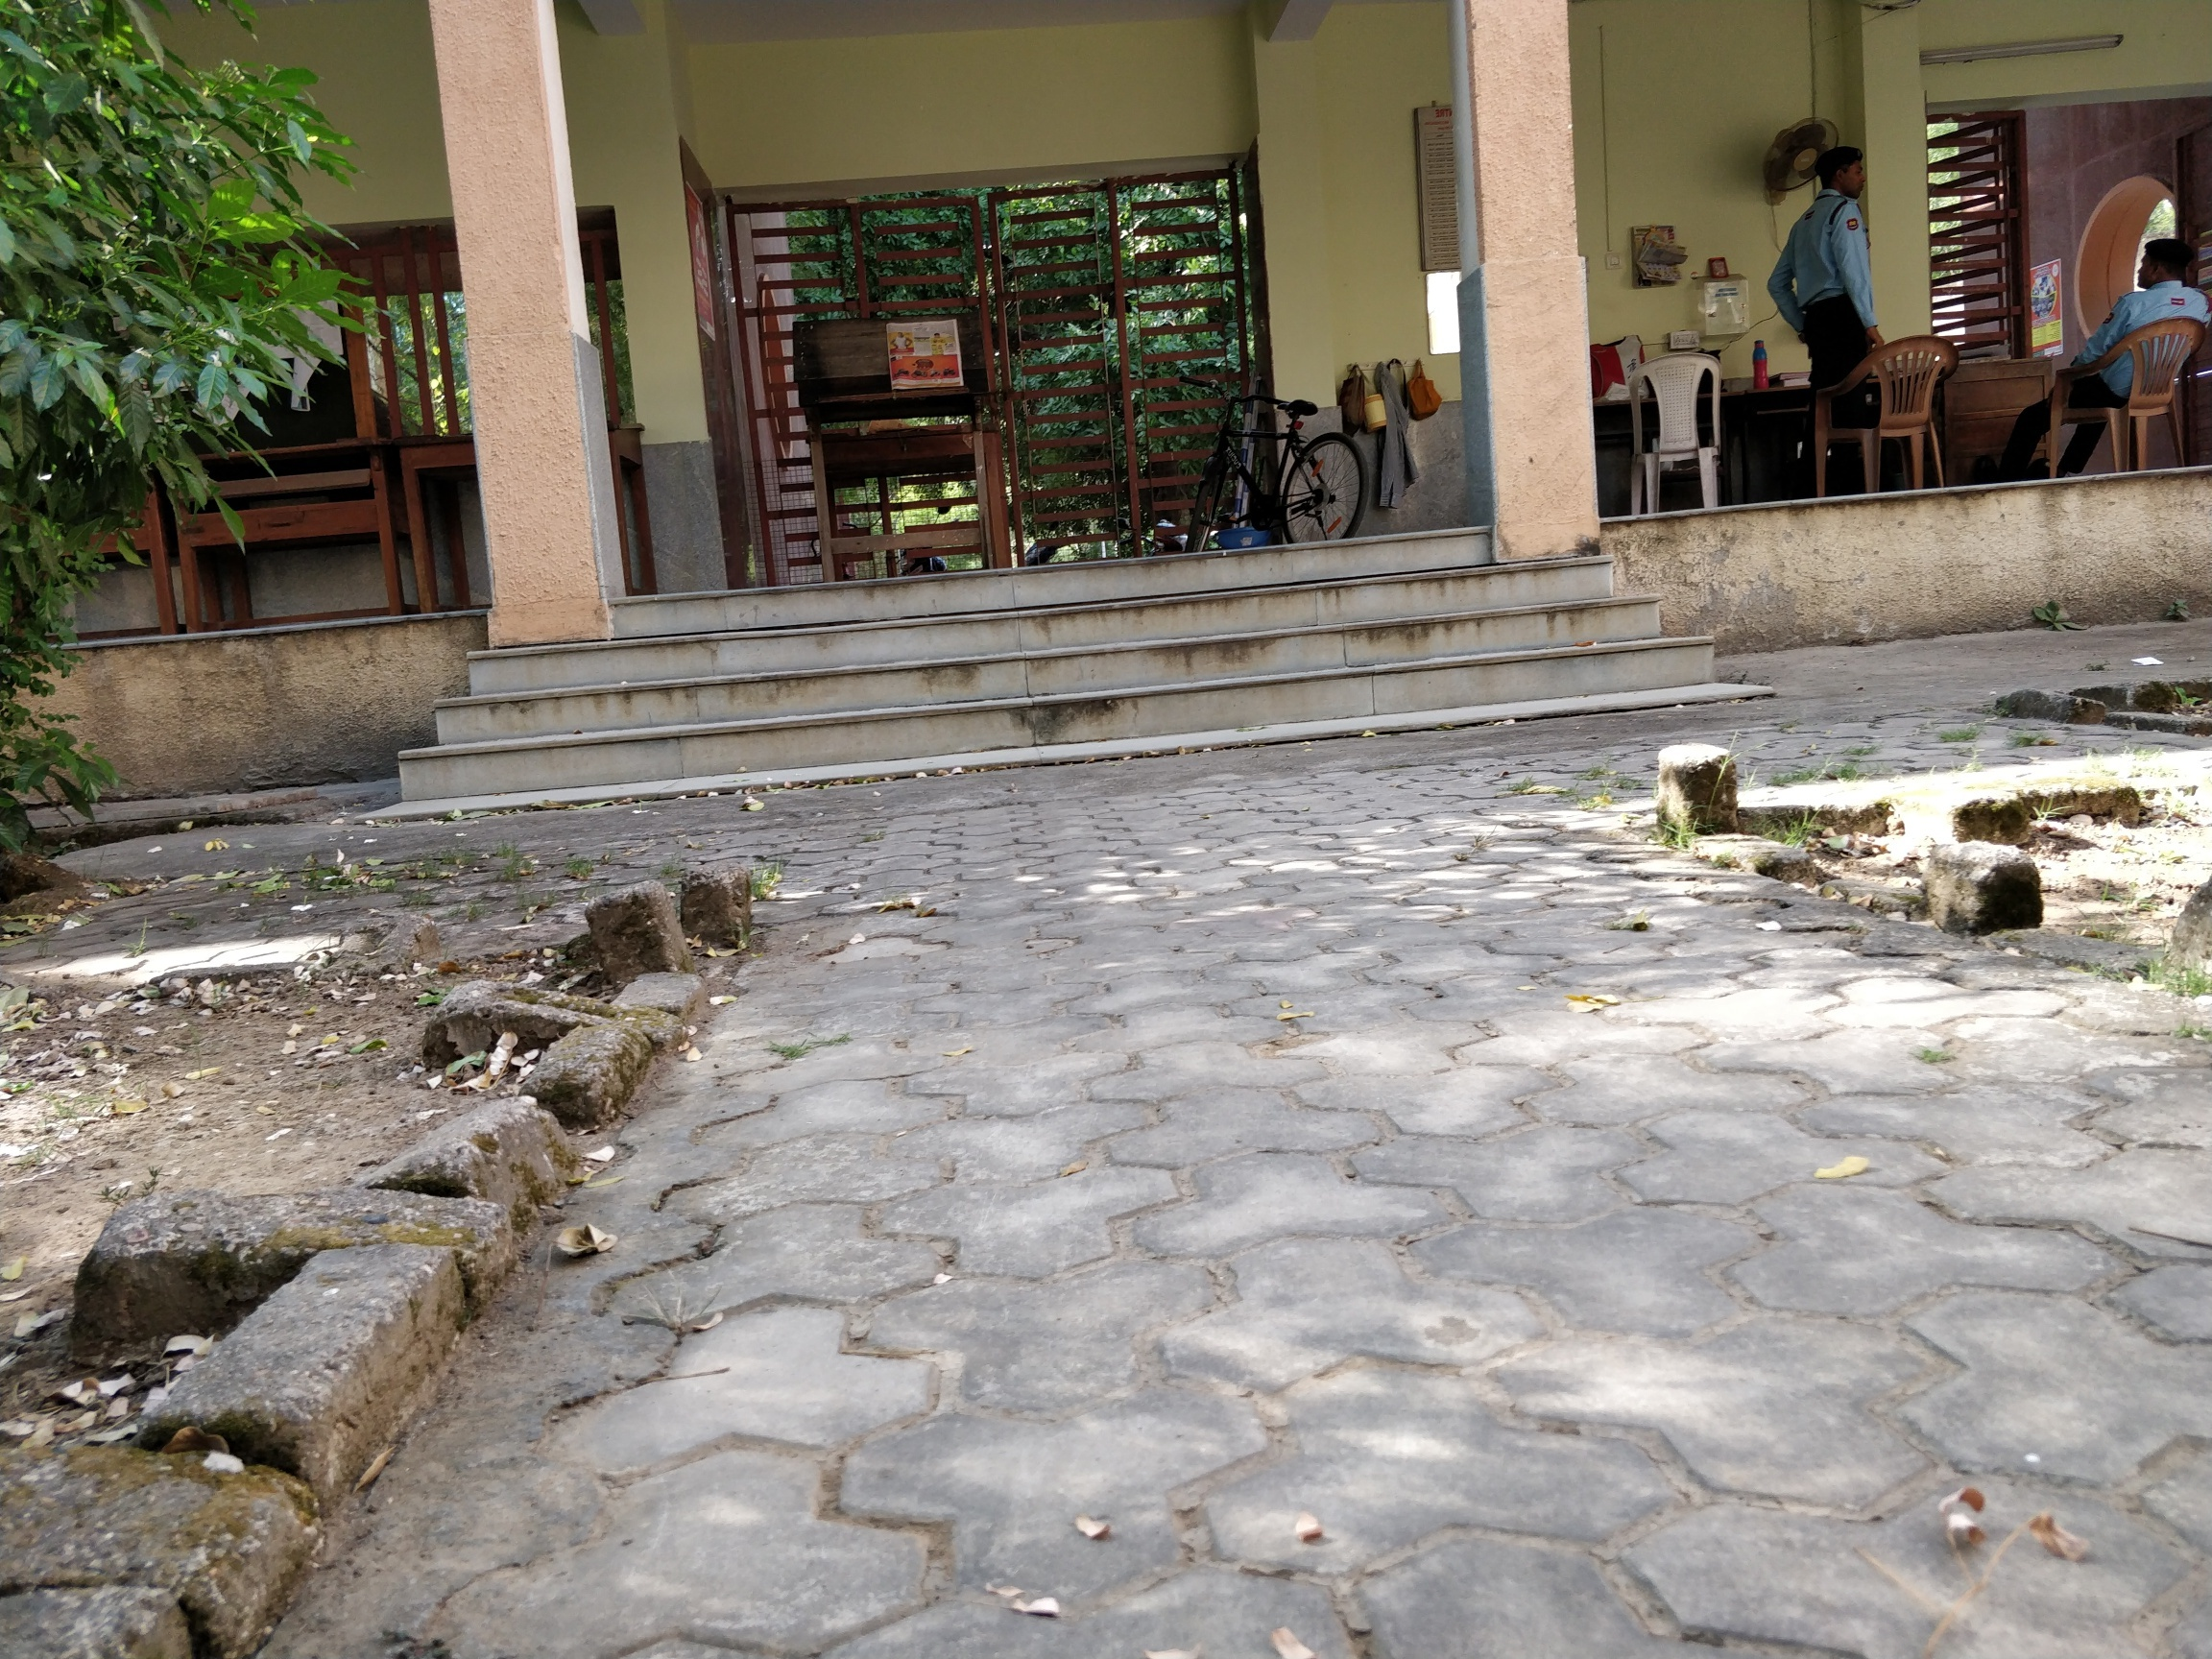stairs_up: (378, 523, 1747, 800)
